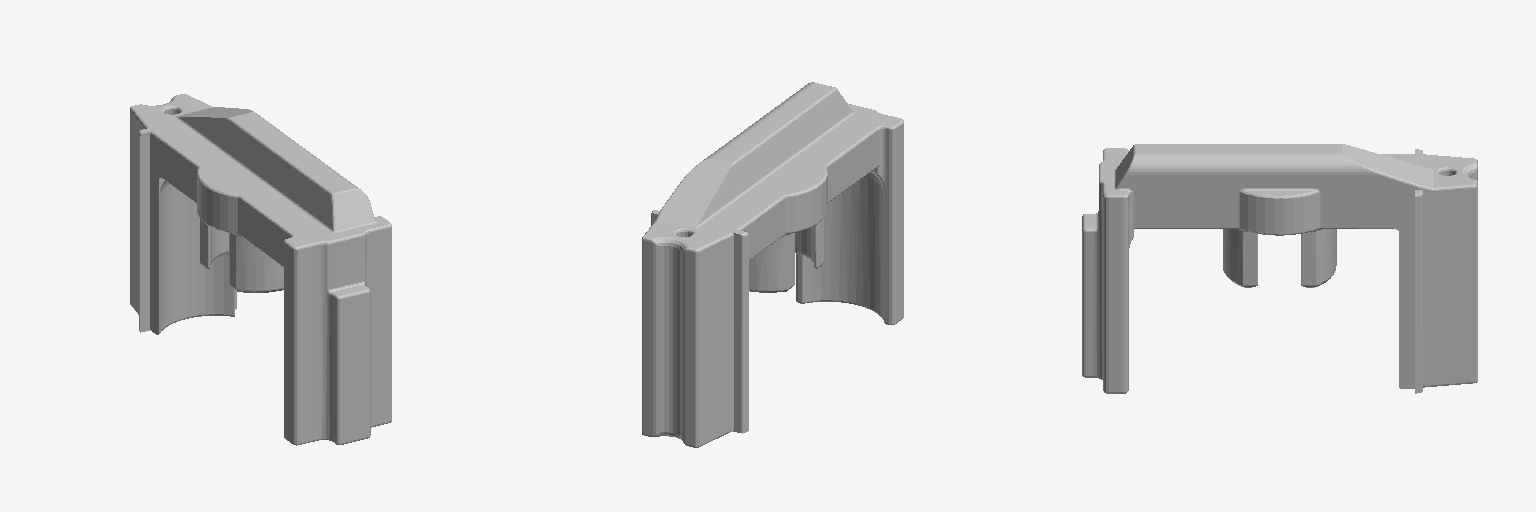
File: Ivan's Standard Follower Without Brim.obj
The picture shows the model from 3 angles: view 1: azimuth 30°, elevation 25°; view 2: azimuth 150°, elevation 25°; view 3: azimuth 270°, elevation 25°; orthographic projection.
Visible parts, largest first — view 1: Solid1; view 2: Solid1; view 3: Solid1.
Part boxes in pixels (x1,y1,x2,y2): Solid1: (130,94,391,445); Solid1: (642,82,903,447); Solid1: (1082,144,1477,393).
Bounding box in the file's own units: 17.22 × 36.53 × 57.28.